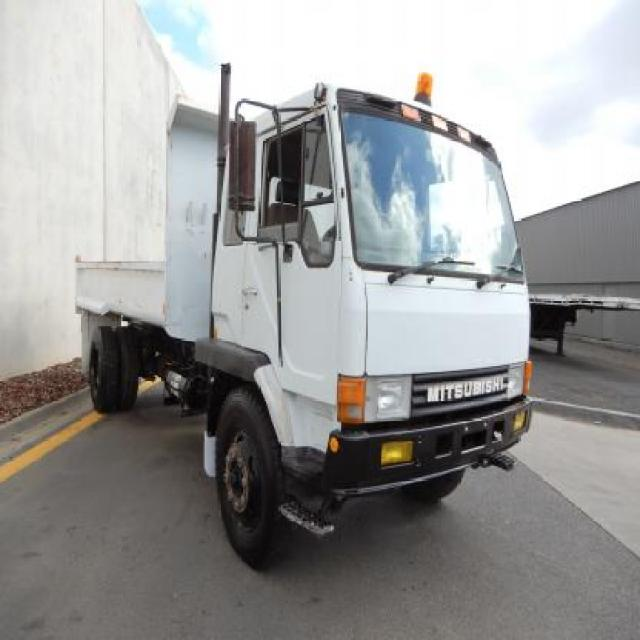truck: (77, 75, 534, 566)
